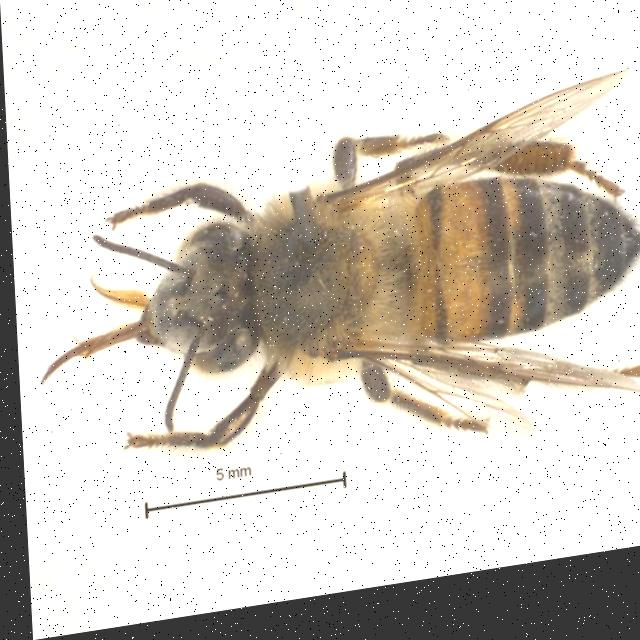Apis-mellifera-scutellata: (19, 59, 640, 527)
